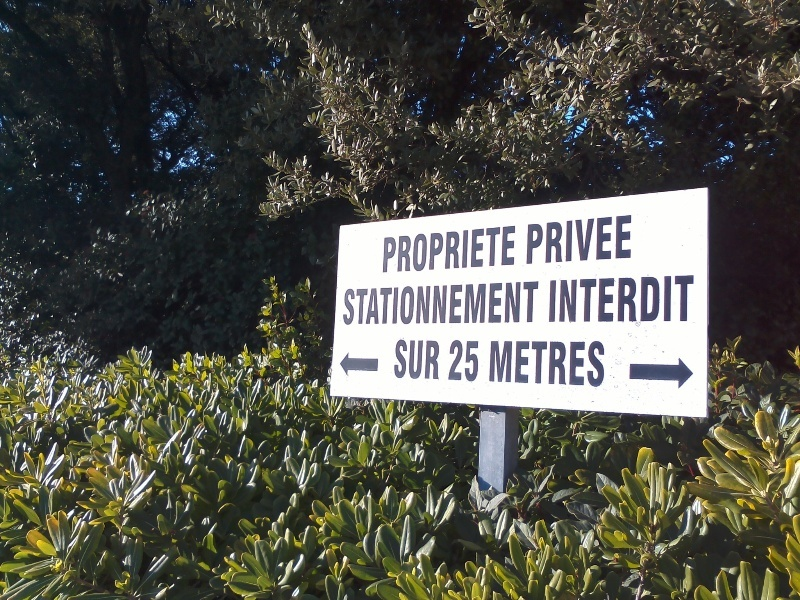text: (385, 224, 400, 273), (401, 224, 416, 273), (417, 224, 432, 273), (433, 224, 448, 273), (449, 224, 464, 273), (465, 224, 480, 273), (481, 224, 496, 273), (497, 224, 512, 273), (529, 217, 544, 266), (545, 217, 560, 266), (561, 217, 576, 266), (577, 217, 592, 266), (593, 217, 608, 266), (609, 217, 624, 266), (561, 276, 576, 324), (577, 276, 592, 324), (593, 276, 608, 324), (609, 276, 624, 324), (625, 276, 640, 324), (641, 276, 656, 324), (657, 276, 672, 324), (673, 276, 688, 324), (465, 338, 481, 383), (497, 342, 512, 388), (513, 342, 528, 388), (529, 342, 544, 388), (545, 342, 560, 388), (561, 342, 576, 388), (577, 342, 592, 388), (449, 338, 464, 383), (353, 281, 368, 325), (369, 281, 384, 325), (385, 281, 400, 325), (401, 281, 416, 325), (417, 281, 432, 325), (433, 281, 448, 325), (449, 281, 464, 325), (465, 281, 480, 325), (481, 281, 496, 325), (497, 281, 512, 325), (513, 281, 528, 325), (401, 338, 416, 381), (417, 338, 432, 381), (529, 281, 543, 325), (593, 342, 604, 388), (551, 276, 560, 324), (343, 281, 352, 325), (513, 224, 521, 273), (625, 217, 633, 266), (433, 338, 441, 381), (689, 276, 695, 324), (492, 342, 496, 388), (396, 338, 400, 381), (382, 224, 384, 273)
